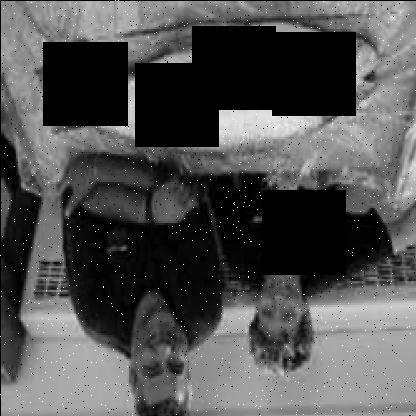fish: (37, 16, 382, 158)
